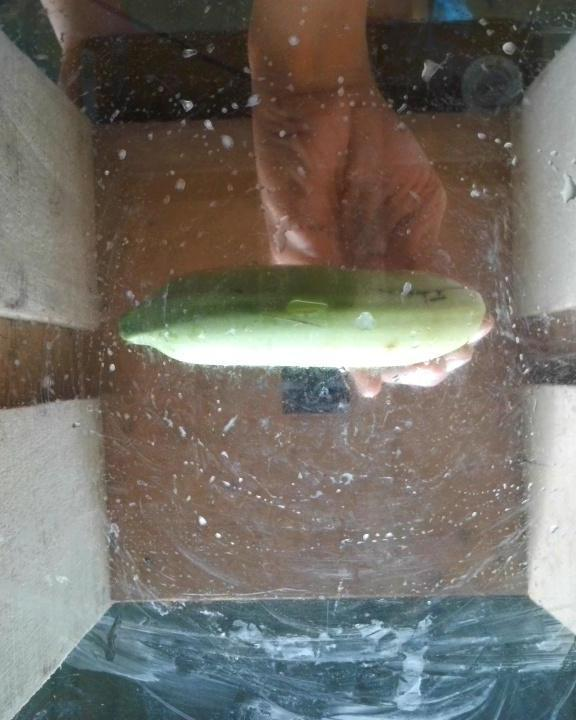CLASS B: (98, 259, 492, 373)
Class A: (371, 280, 463, 314)
